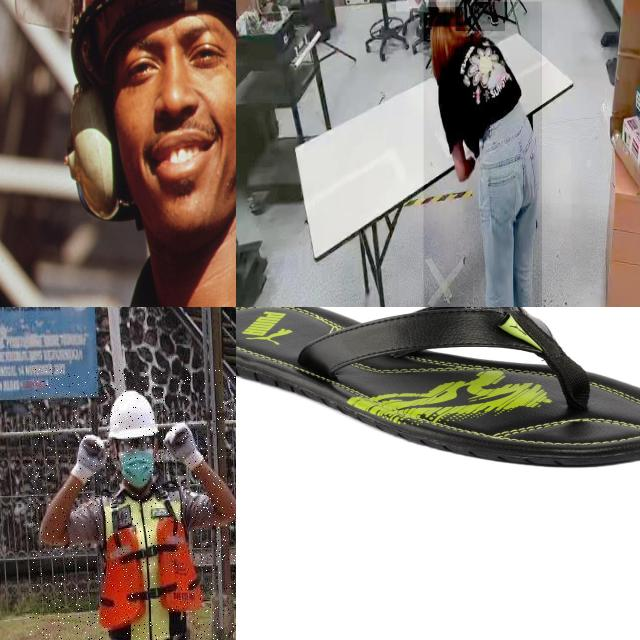Ear-protection: (64, 82, 120, 224)
Sandals: (236, 307, 640, 469)
head_helmet: (107, 389, 163, 439)
head_nohelmet: (428, 7, 464, 28)
person: (29, 369, 236, 640), (423, 1, 542, 307)
shoes: (485, 0, 500, 27)
vest: (99, 487, 201, 640)
